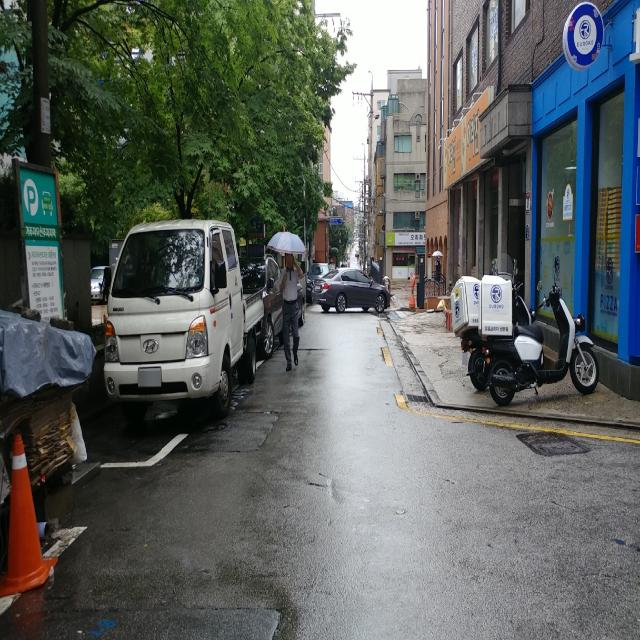car: (100, 225, 243, 423), (312, 268, 392, 314)
motorbike: (452, 278, 594, 416)
